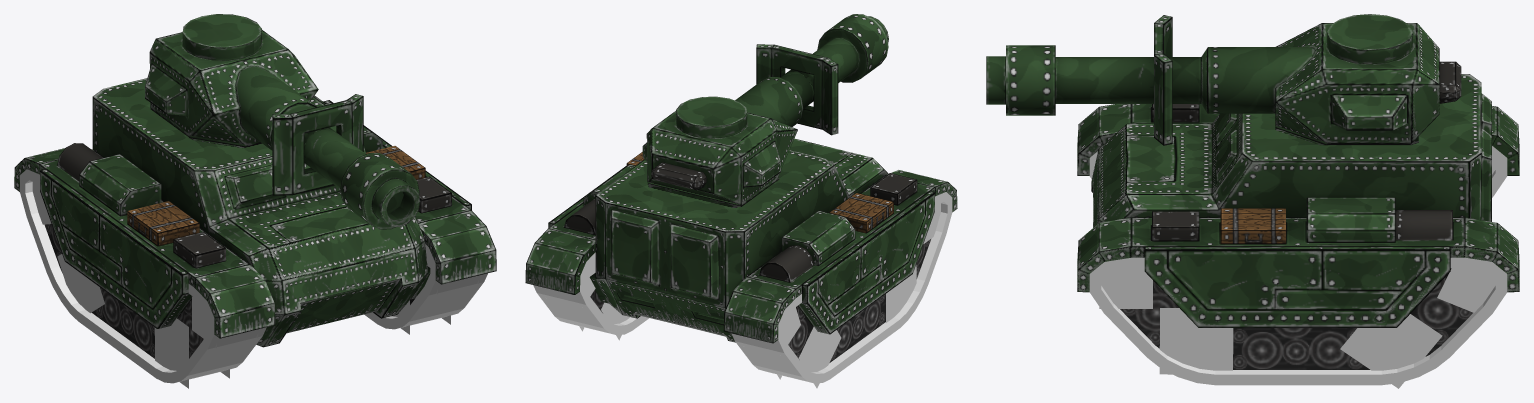
Rendered from CartoonTank.fbx.
3 views of the same model, side by side, from view 1: azimuth 30°, elevation 25°; view 2: azimuth 150°, elevation 25°; view 3: azimuth 270°, elevation 25° (orthographic). The views are drawn at different scales.
Parts seen in each view (by area): view 1: Tank_Body, Tank_Tracks, Gears; view 2: Tank_Body, Tank_Tracks, Gears; view 3: Tank_Body, Gears, Tank_Tracks.
Boxes of the visible parts, x1,y1,x2,y2 form: Tank_Body: [14, 14, 496, 358]; Tank_Tracks: [20, 169, 487, 383]; Gears: [32, 182, 478, 388]; Tank_Body: [525, 14, 957, 362]; Tank_Tracks: [533, 192, 952, 383]; Gears: [546, 203, 940, 388]; Tank_Body: [986, 14, 1519, 369]; Gears: [1099, 160, 1495, 388]; Tank_Tracks: [1089, 146, 1507, 385].
Bounding box in the file's own units: 511 × 452 × 758.
